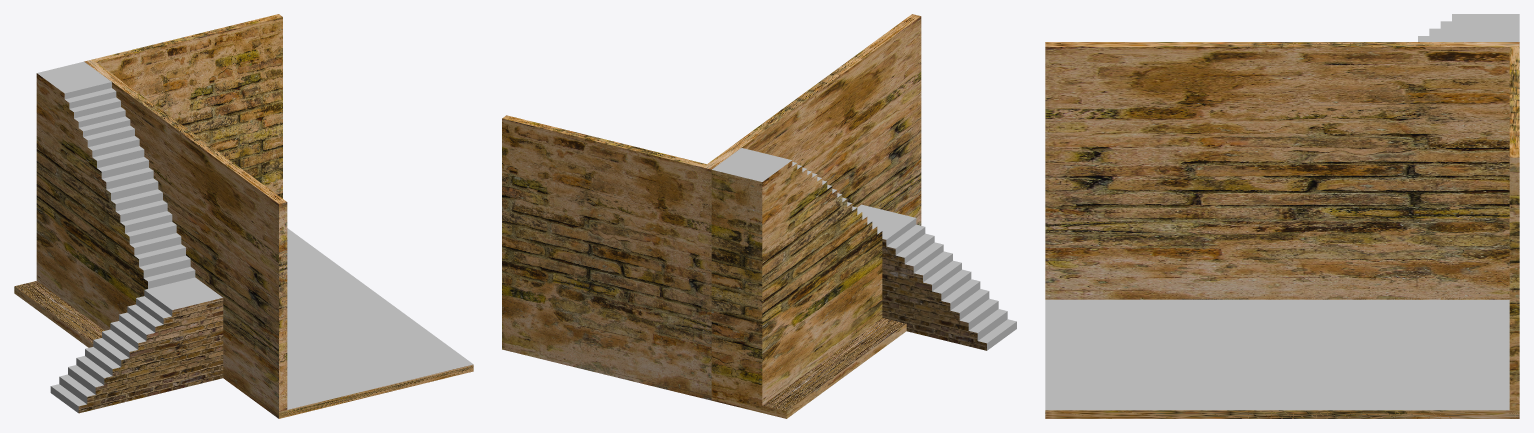
The model's file is sumerian_house_construccion.fbx.
3 views of the same model, side by side, from view 1: azimuth 30°, elevation 25°; view 2: azimuth 150°, elevation 25°; view 3: azimuth 270°, elevation 25° (orthographic). The views are drawn at different scales.
Visible parts, largest first — view 1: Cube; view 2: Cube; view 3: Cube.
Part boxes in pixels (x1=…): Cube: x1=14, y1=14, x2=473, y2=418; Cube: x1=502, y1=14, x2=1016, y2=418; Cube: x1=1045, y1=14, x2=1519, y2=418.
Bounding box in the file's own units: 1400 × 847 × 1393.
